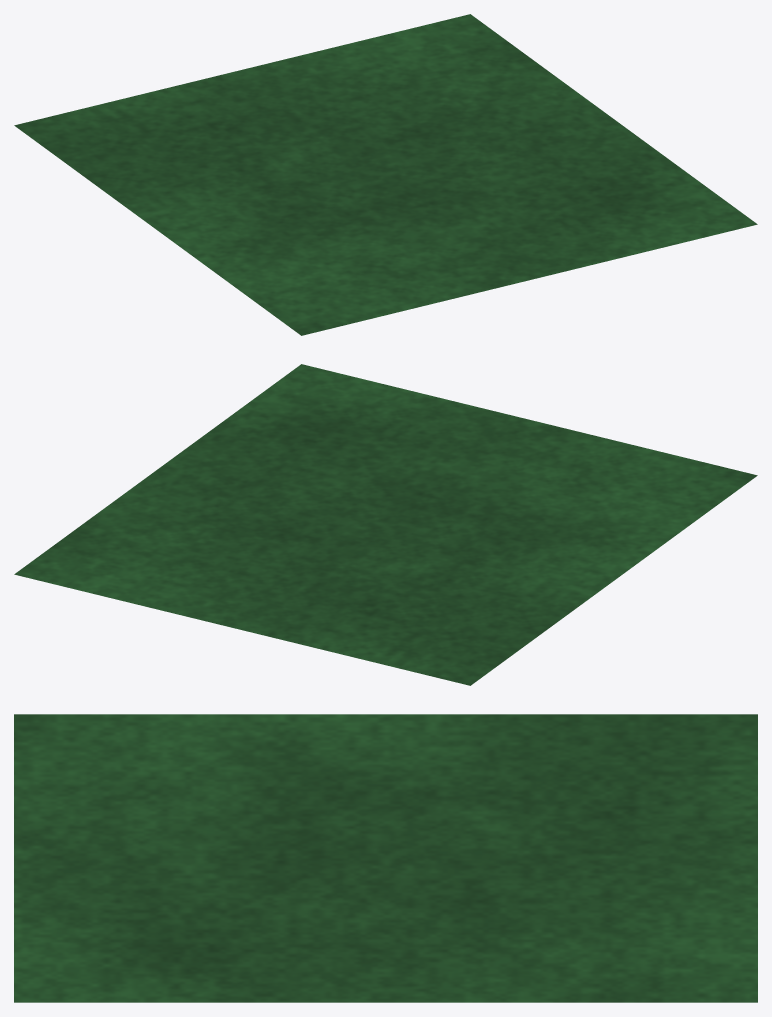
Rendered from kelp.fbx.
3 views of the same model, one above another, from view 1: azimuth 30°, elevation 25°; view 2: azimuth 150°, elevation 25°; view 3: azimuth 270°, elevation 25° (orthographic). The views are drawn at different scales.
Parts seen in each view (by area): view 1: kelp; view 2: kelp; view 3: kelp.
Boxes of the visible parts, x1,y1,x2,y2 form: kelp: (14, 14, 757, 335); kelp: (14, 364, 757, 685); kelp: (14, 714, 757, 1002).
Size of the model in its own units: 55 by 9.78e-06 by 60.
